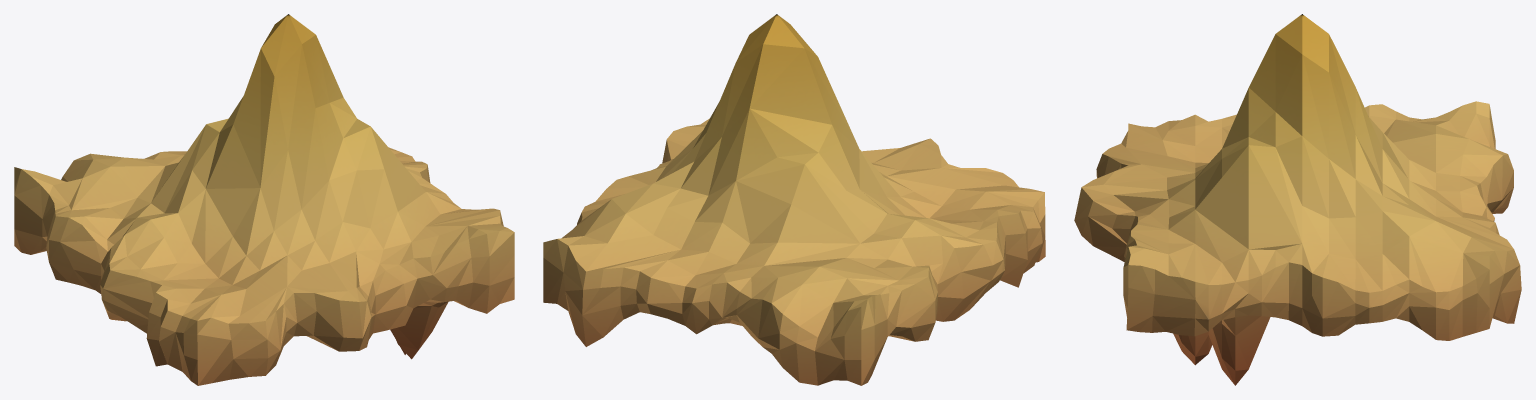
The model's file is Canyon_Mountains_007.FBX.
3 views of the same model, side by side, from view 1: azimuth 30°, elevation 25°; view 2: azimuth 150°, elevation 25°; view 3: azimuth 270°, elevation 25° (orthographic).
Visible parts, largest first — view 1: Canyon_Mountains_007; view 2: Canyon_Mountains_007; view 3: Canyon_Mountains_007.
Boxes of the visible parts, <box> form: Canyon_Mountains_007: <box>14,14,514,385</box>; Canyon_Mountains_007: <box>543,14,1045,385</box>; Canyon_Mountains_007: <box>1074,14,1521,385</box>.
Size of the model in its own units: 1291 by 1123 by 1370.
Materials: 1 (1 with a texture image).
